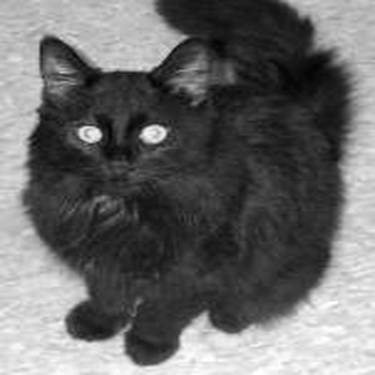cat: (5, 2, 353, 349)
